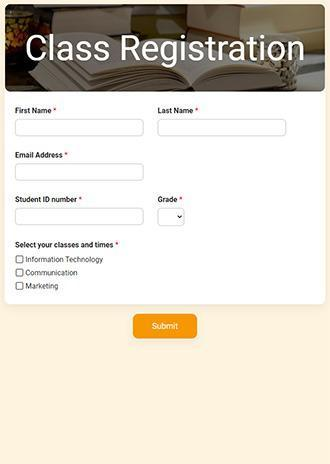button: (133, 315, 199, 340)
checkbox: (16, 255, 25, 265), (16, 269, 25, 279), (16, 283, 25, 291)
dropdown: (159, 210, 186, 226)
input: (16, 164, 145, 182), (16, 120, 145, 138), (158, 120, 287, 138), (16, 209, 145, 226)
label: (13, 240, 120, 249), (26, 256, 105, 268), (13, 194, 85, 204), (14, 150, 72, 162), (12, 105, 59, 117), (26, 269, 80, 279), (156, 106, 200, 117), (26, 281, 62, 291), (156, 195, 184, 204)
